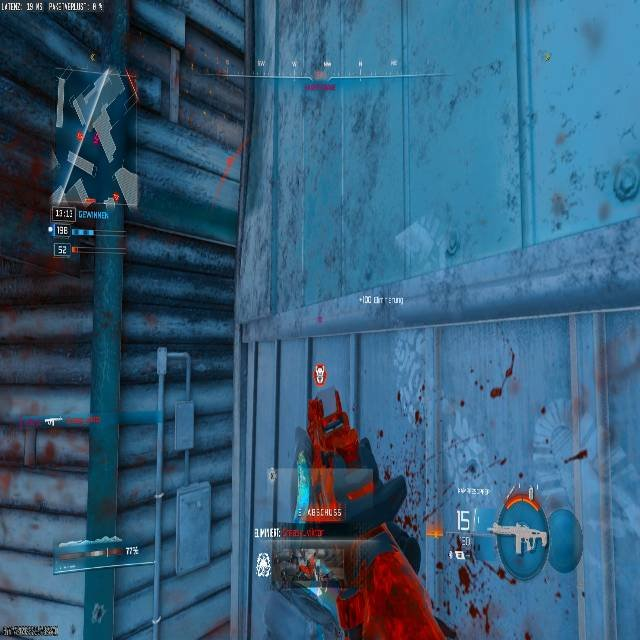head: (307, 391, 333, 422)
player: (265, 394, 406, 639), (267, 546, 348, 639)
